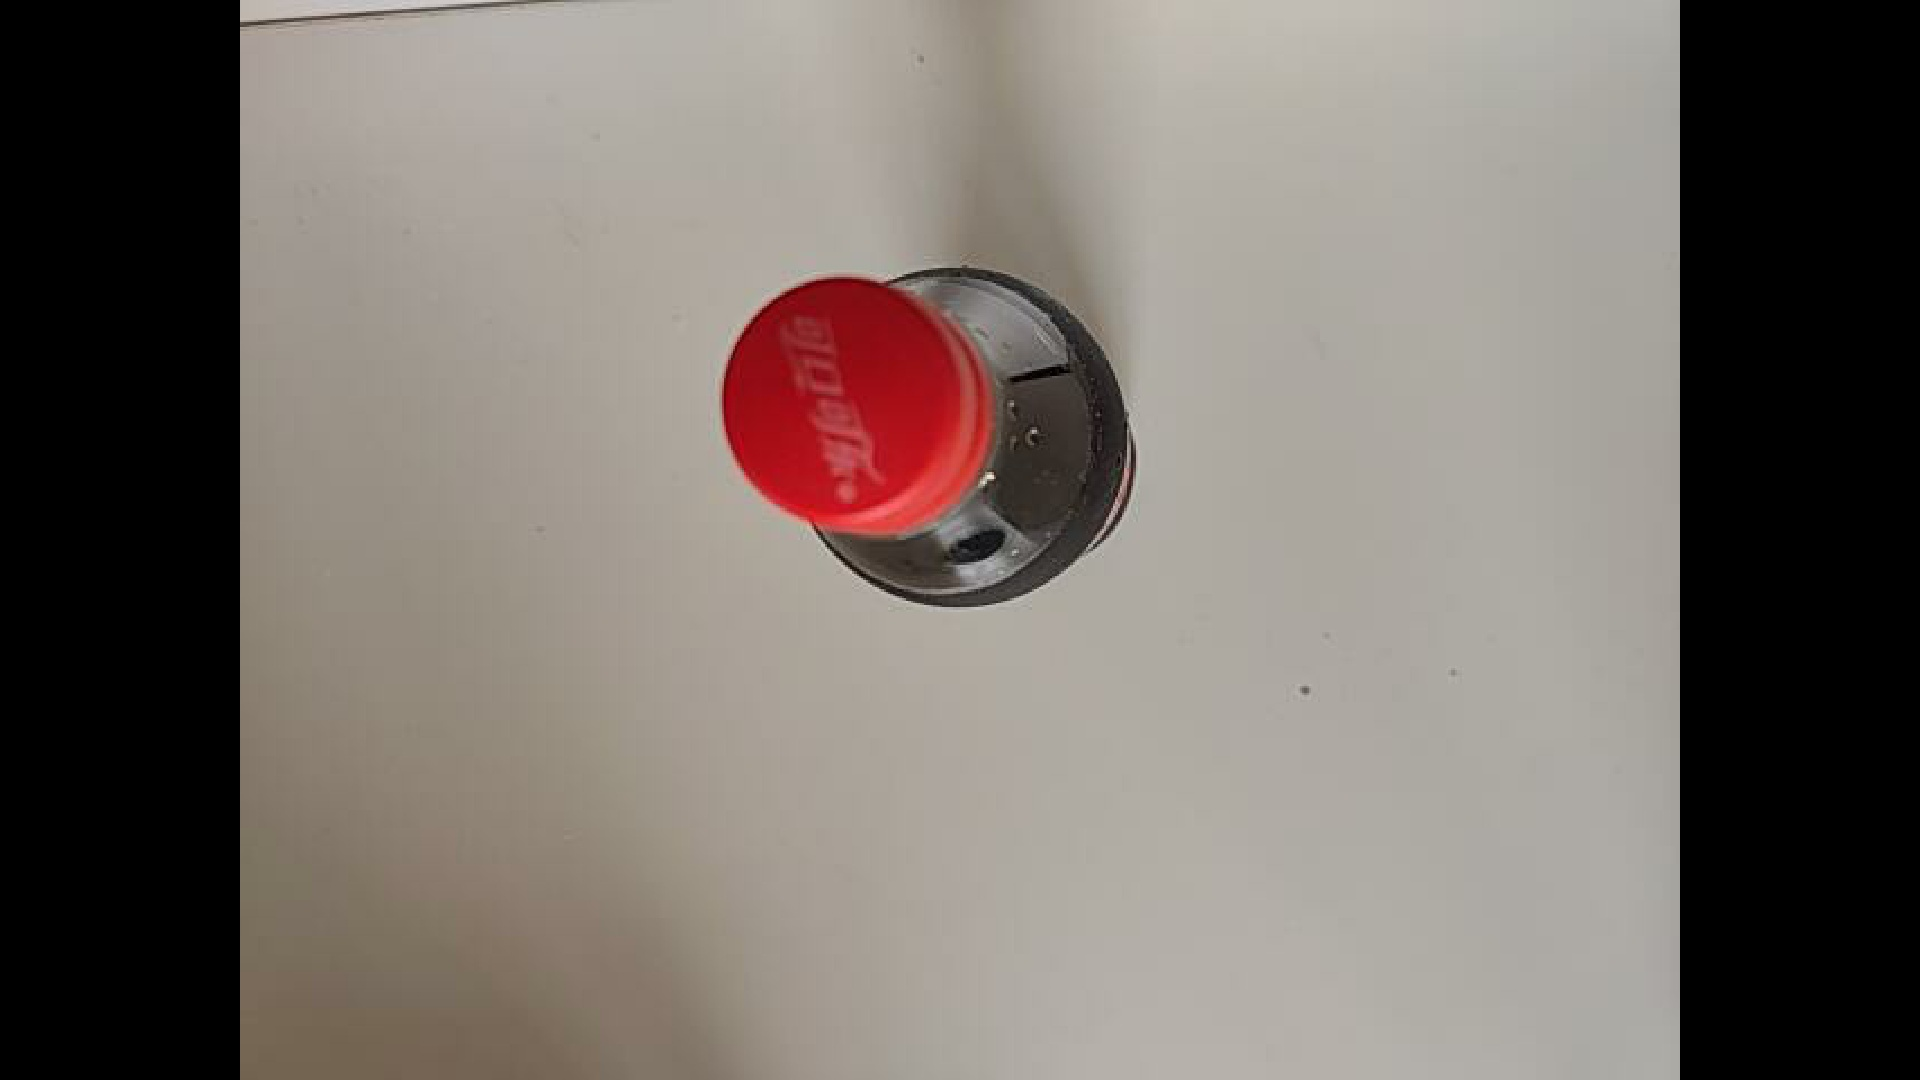cola: (720, 265, 1138, 611)
